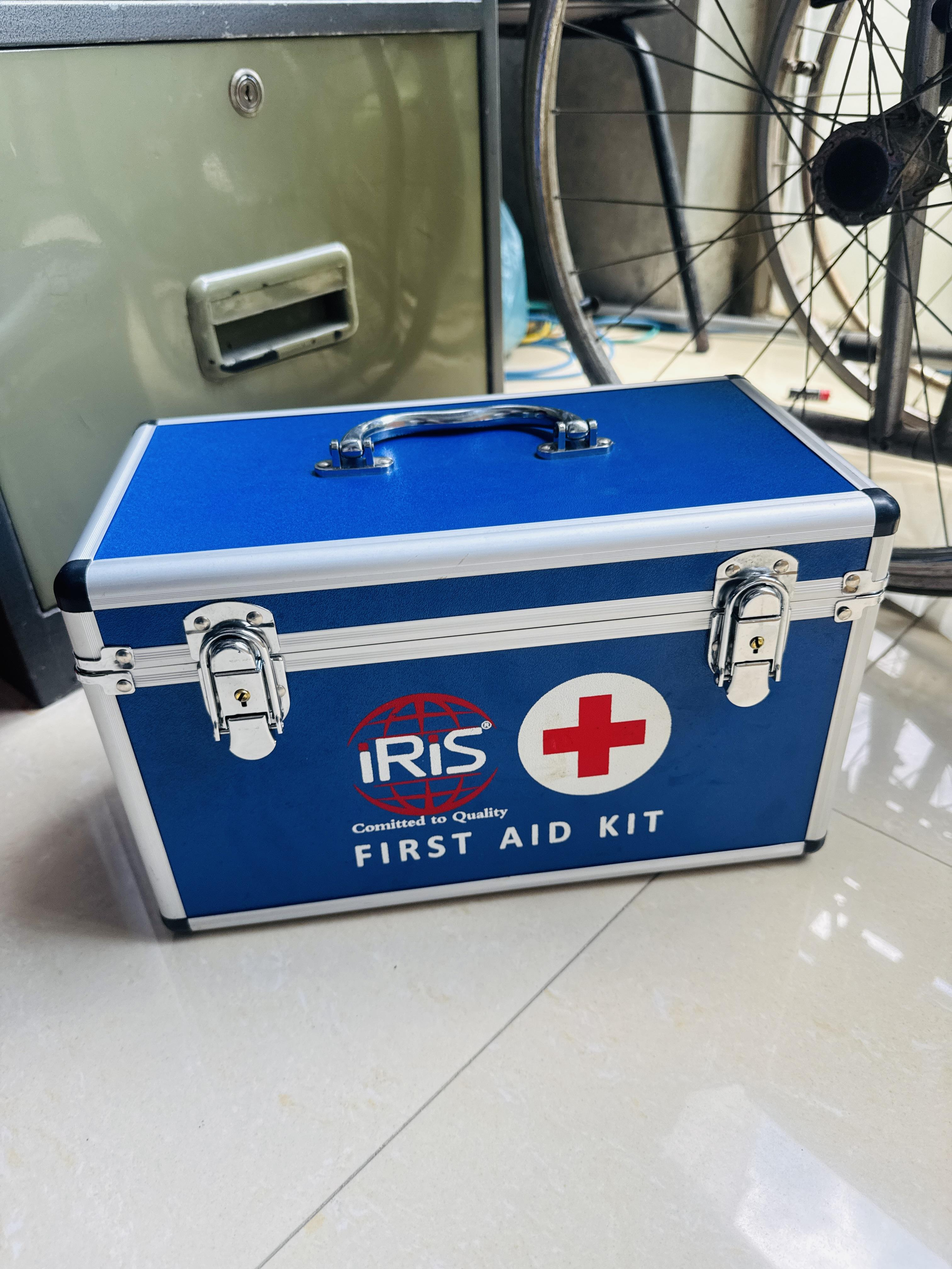FirstAidBox: (49, 355, 925, 936)
